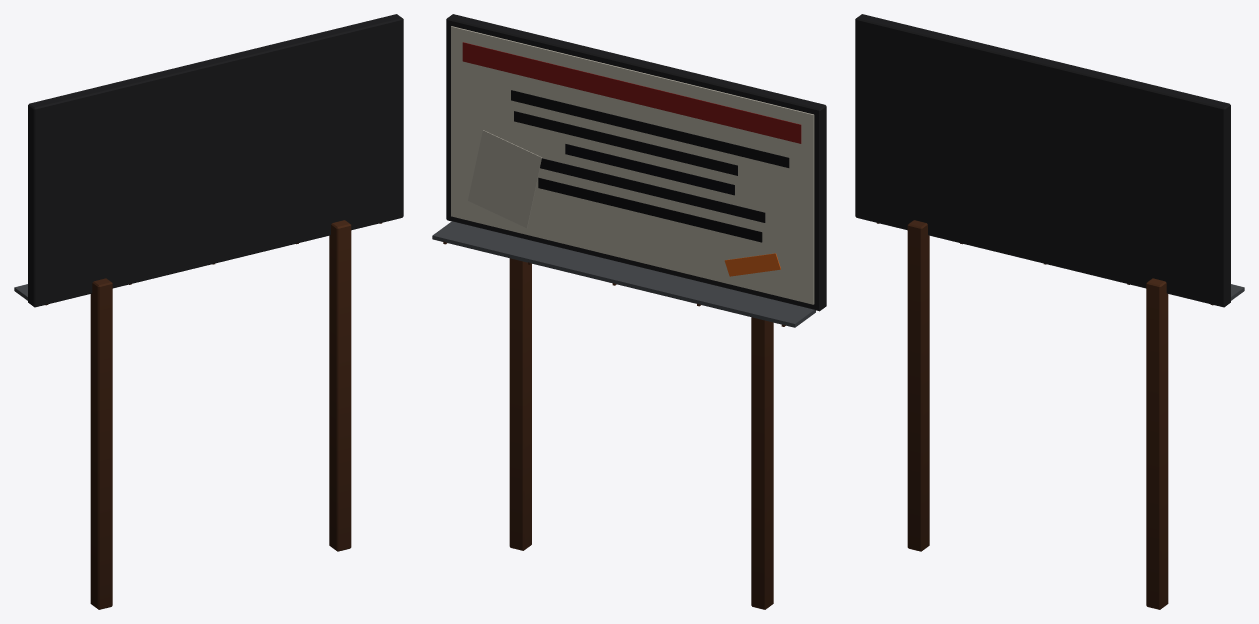
File: billboard.glb
The picture shows the model from 3 angles, left to right: view 1: azimuth 30°, elevation 25°; view 2: azimuth 150°, elevation 25°; view 3: azimuth 330°, elevation 25°; orthographic projection.
Visible parts, largest first — view 1: billboard; view 2: billboard; view 3: billboard.
Boxes of the visible parts, x1,y1,x2,y2 form: billboard: (14,14,403,609); billboard: (432,14,826,609); billboard: (855,14,1244,609).
Size of the model in its own units: 6.2 by 8.2 by 0.925.
